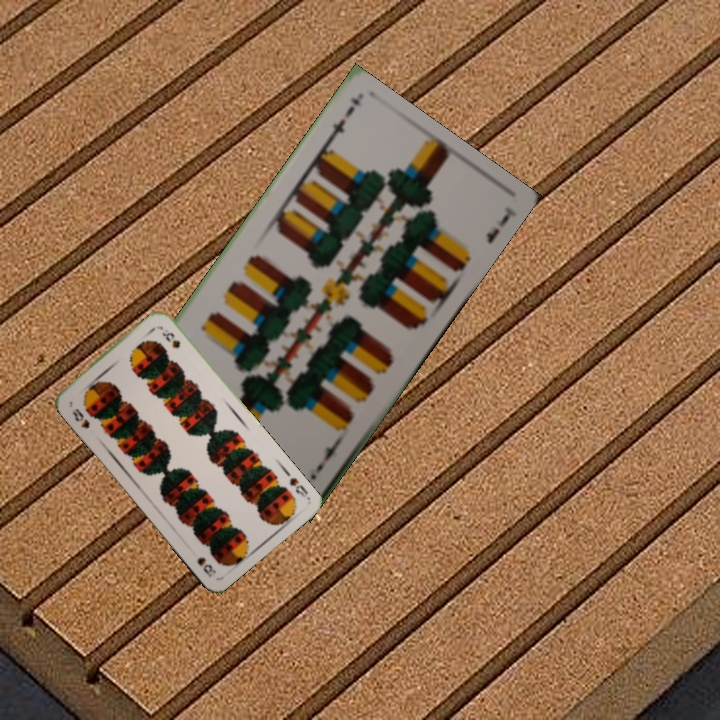E7: (306, 437, 343, 483), (321, 102, 357, 148)
S8: (285, 473, 311, 500), (68, 404, 92, 431)
